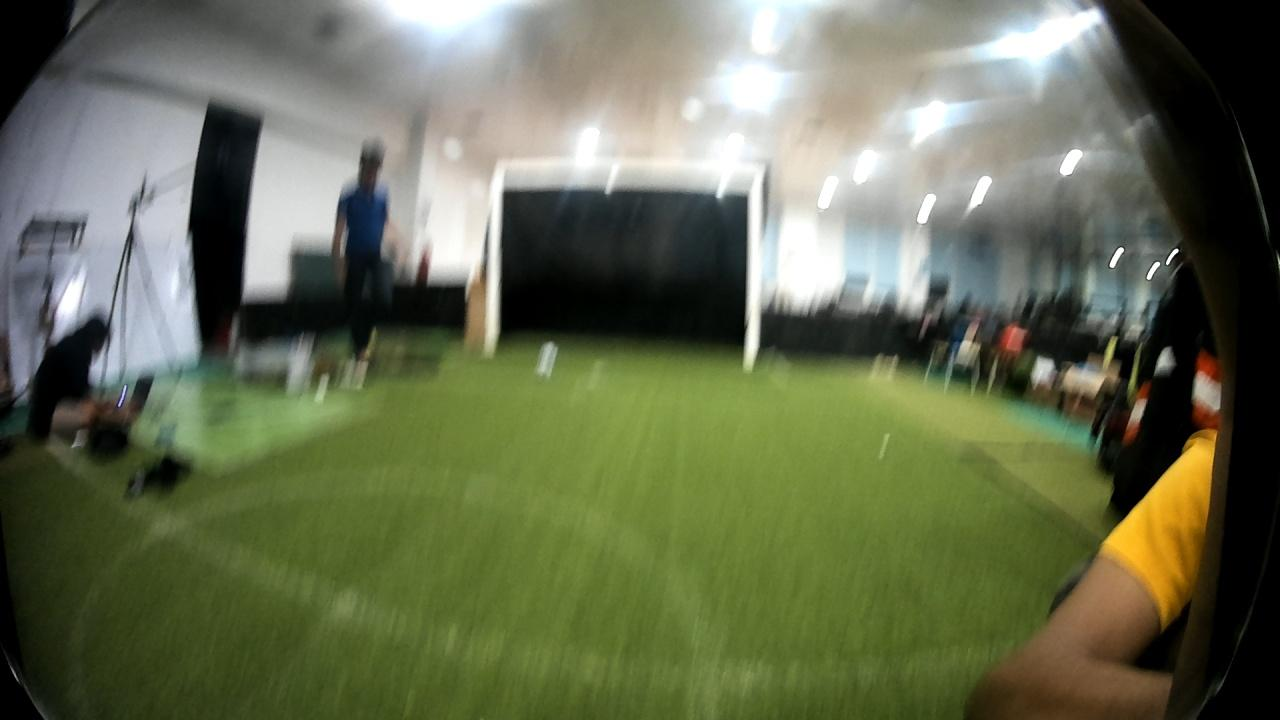ball: (531, 342, 558, 378)
